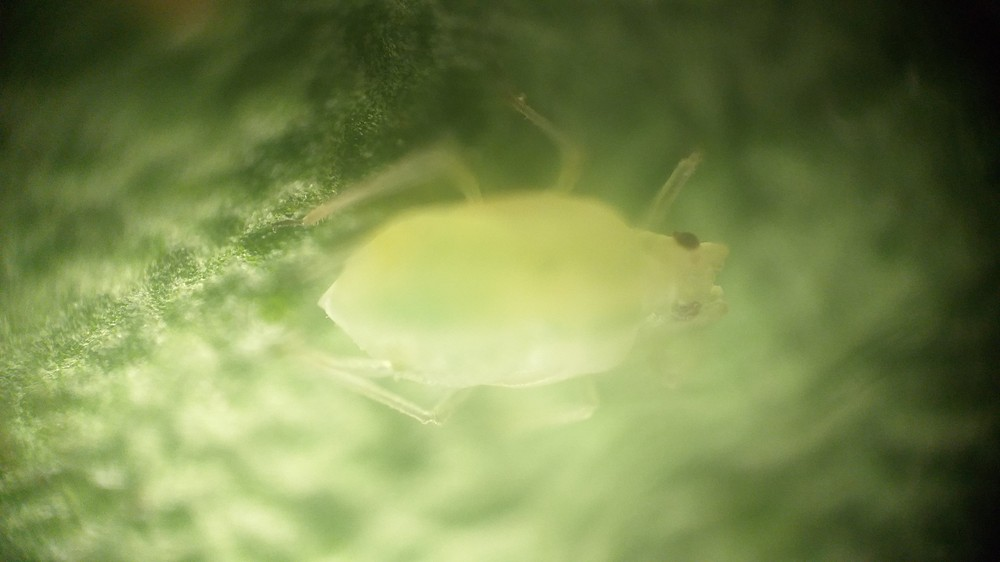Pulgon: (293, 95, 779, 474)
